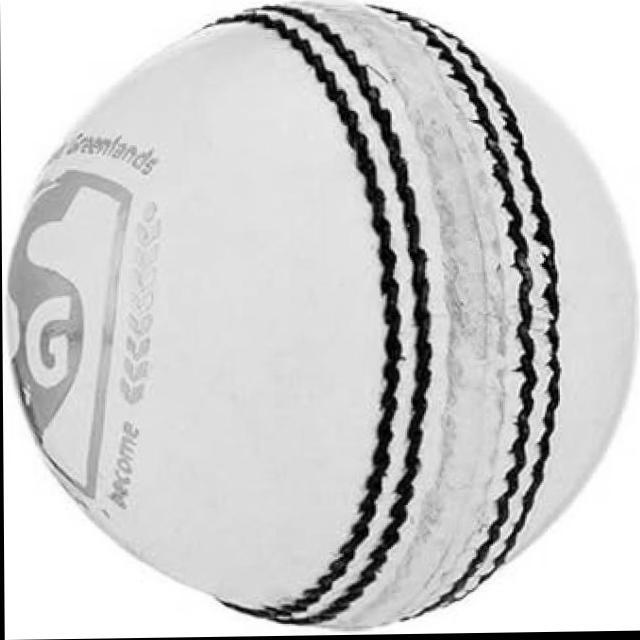cricket ball: (4, 0, 640, 631)
